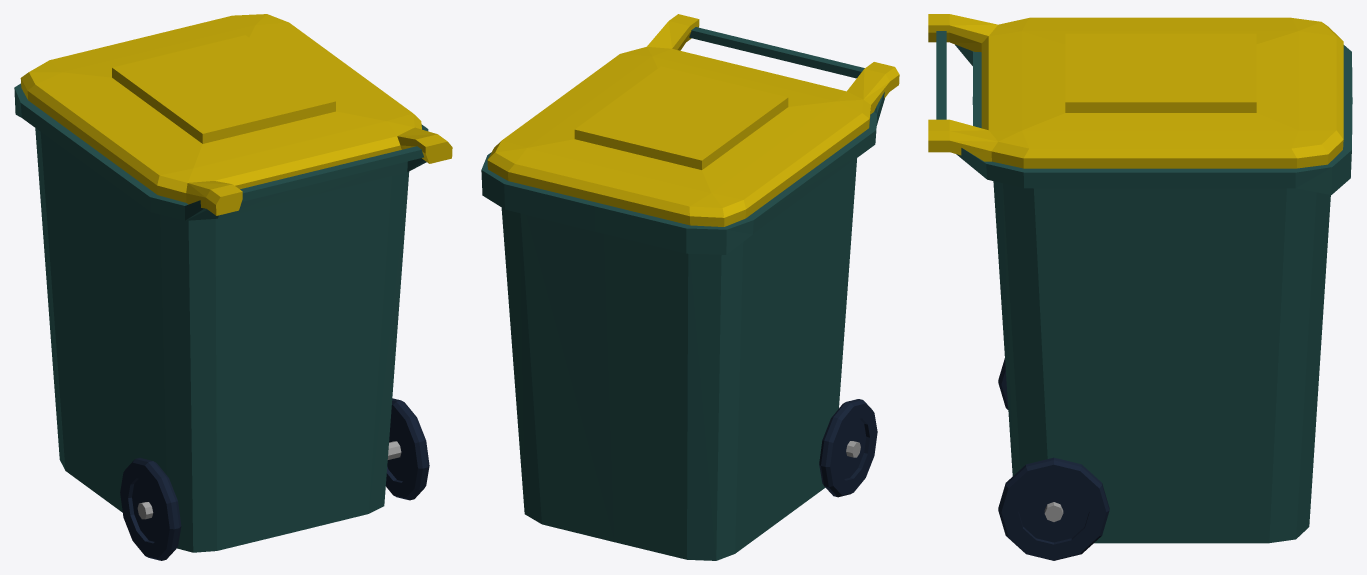
File: wheelie.fbx
3 renders of one model, left to right at view 1: azimuth 30°, elevation 25°; view 2: azimuth 150°, elevation 25°; view 3: azimuth 270°, elevation 25°, orthographic. The views are drawn at different scales.
Parts seen in each view (by area): view 1: Node; view 2: Node; view 3: Node.
Part boxes in pixels (bbox=[...]): Node: bbox=[14, 14, 452, 560]; Node: bbox=[481, 14, 899, 560]; Node: bbox=[928, 14, 1352, 560].
Size of the model in its own units: 0.7206 by 1 by 0.8986.
